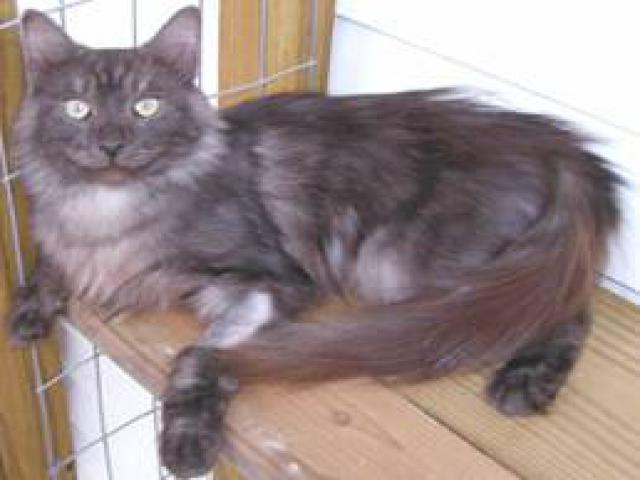cat: (11, 8, 619, 472)
